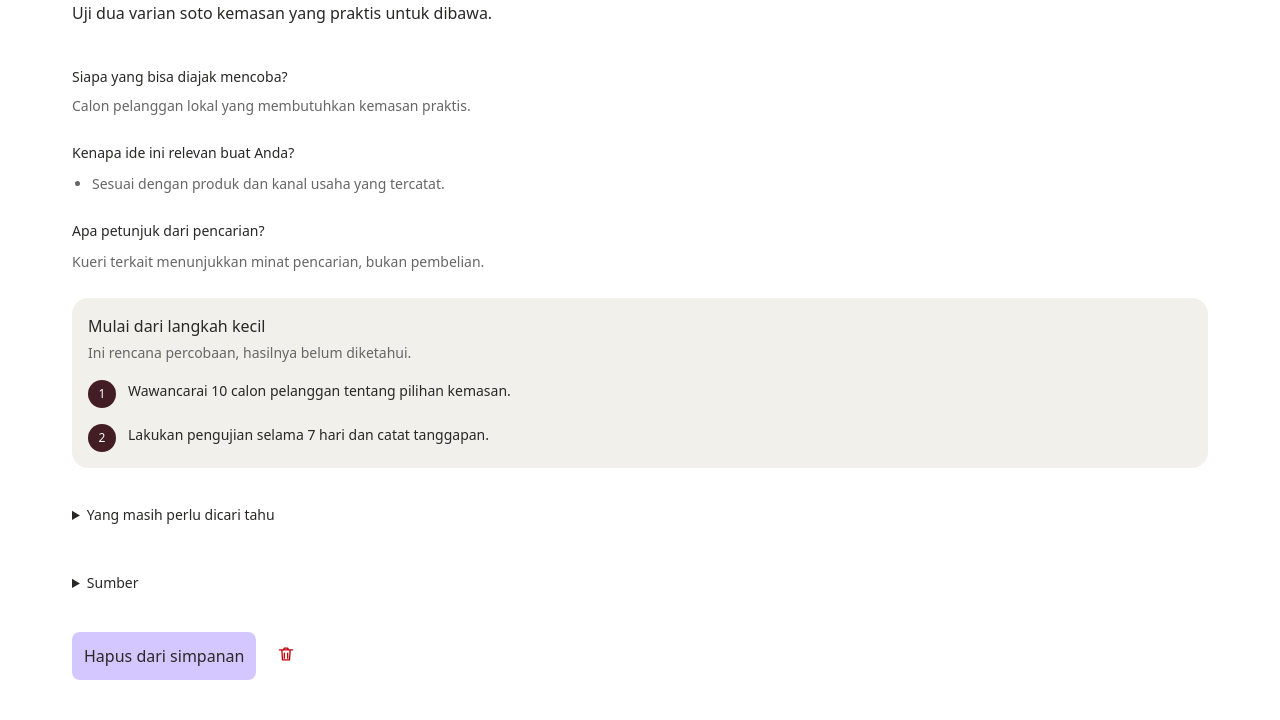
Test: PrivateOpportunityFinder timeout state › asks before deleting a hypothesis and removes it from the account after success
The width and height of the screenshot is (1280, 720).
(page scrolled)
Click the button named "Hapus hipotesis: Uji kemasan soto": (286, 654) [264,632,308,676]
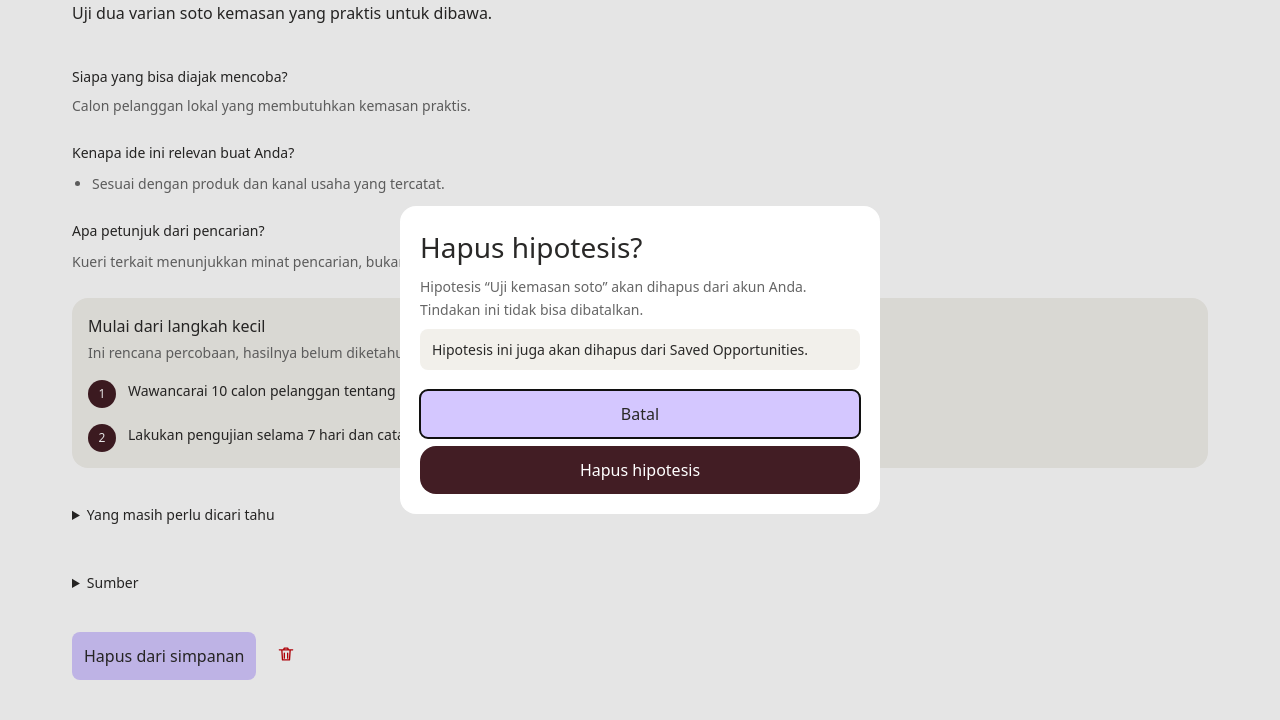
Check: the dialog shows "Uji kemasan soto", box [490,277,602,296]
Check: the dialog shows "Saved Opportunities", box [432,340,808,359]
Click the button "Hapus hipotesis": (640, 470) [420,446,860,494]
(page scrolled)
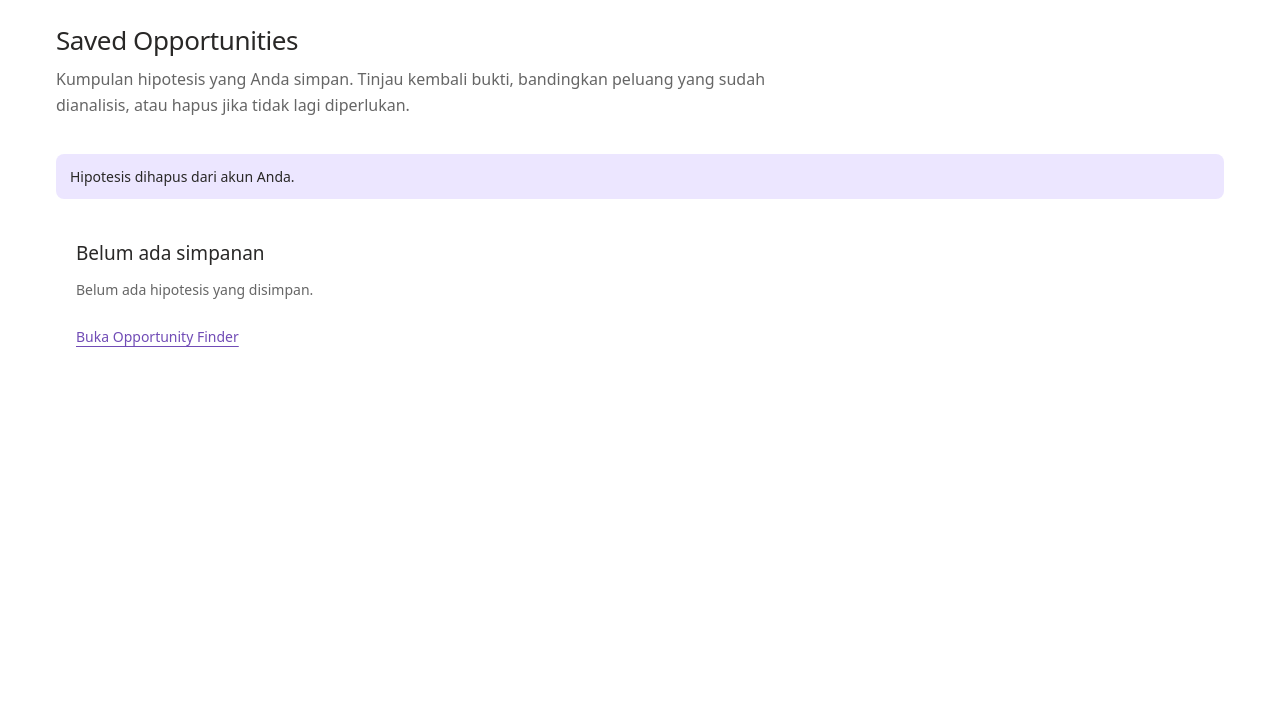
Check: the heading "Belum ada simpanan" is shown, box [76,240,265,266]
Check: the dialog is gone
